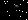person: (15, 4, 22, 13)
